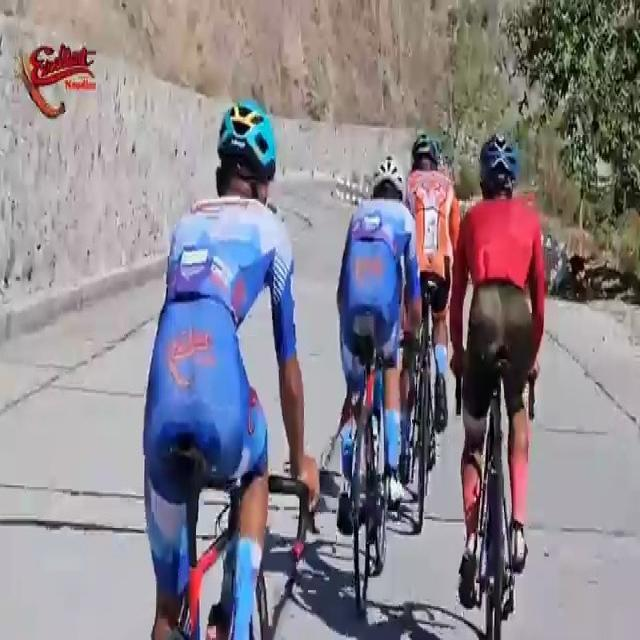bike: (140, 95, 320, 640), (447, 131, 546, 640), (336, 156, 422, 620), (404, 133, 454, 535)
